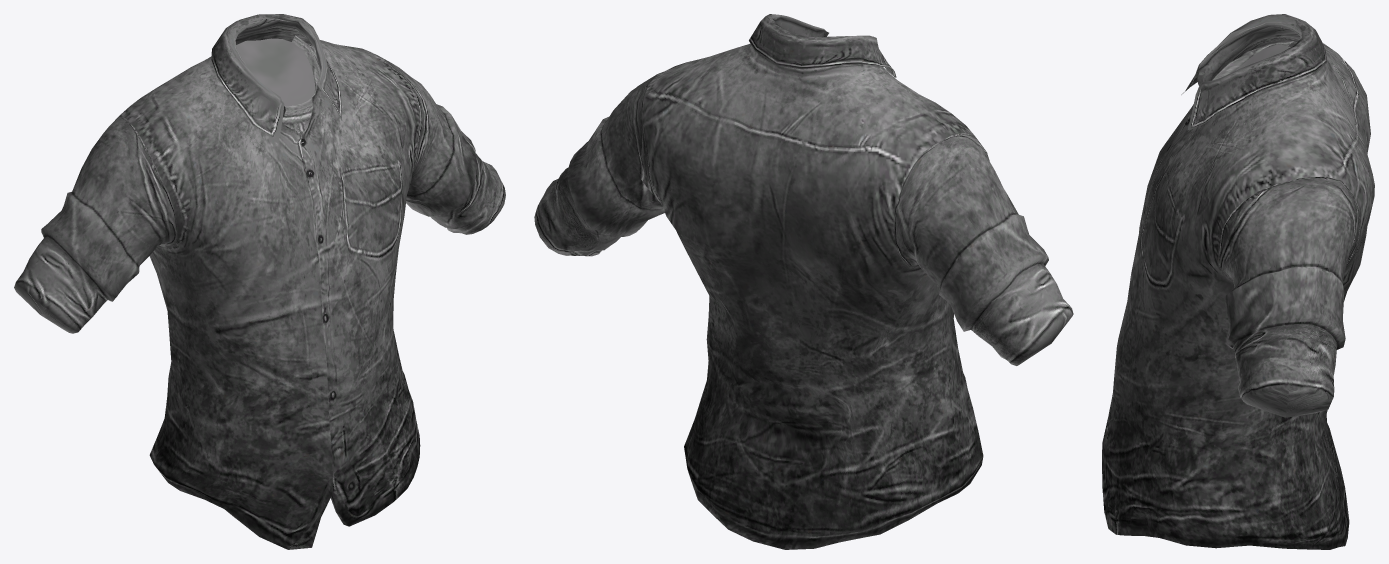
File: SurvivorMale_Chest_Shirt_FlannelLongSleeve_LOD0.glb
3 renders of one model, left to right at view 1: azimuth 30°, elevation 25°; view 2: azimuth 150°, elevation 25°; view 3: azimuth 270°, elevation 25°, orthographic. The views are drawn at different scales.
Visible parts, largest first — view 1: Hoodie; view 2: Hoodie; view 3: Hoodie.
Boxes of the visible parts, box(x1,y1,x2,y2) form: Hoodie: box(14, 14, 505, 549); Hoodie: box(534, 14, 1073, 549); Hoodie: box(1102, 14, 1374, 549).
Size of the model in its own units: 0.7644 by 0.7138 by 0.3504.
1 material, 1 textured.
